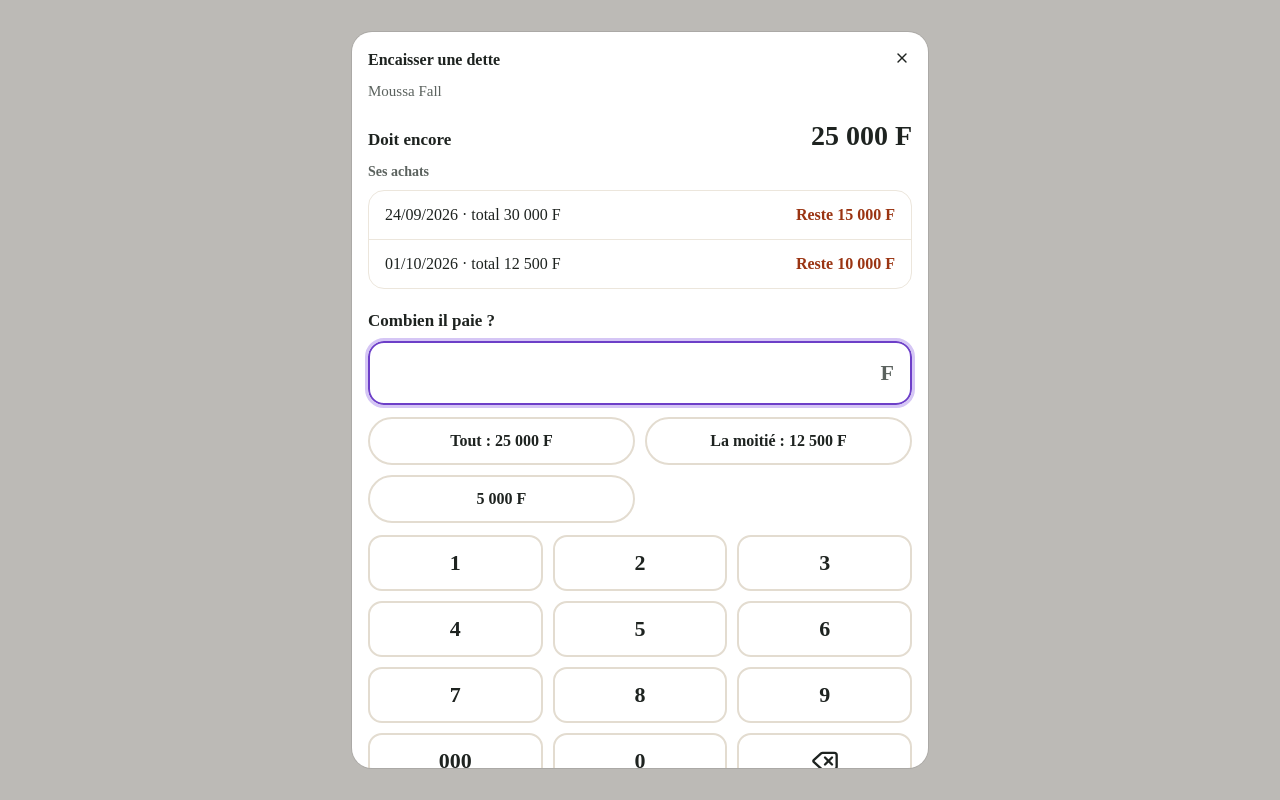
Encaisser une dette › propose « Tout » et « La moitié »
Expected: the text "25 000 F" is shown, [811,118,912,154]
What coordinates should you click on to do the following:
click the button "Tout : 25 000 F"
I would click on:
 (502, 441)
Its box is [368,417,635,465].
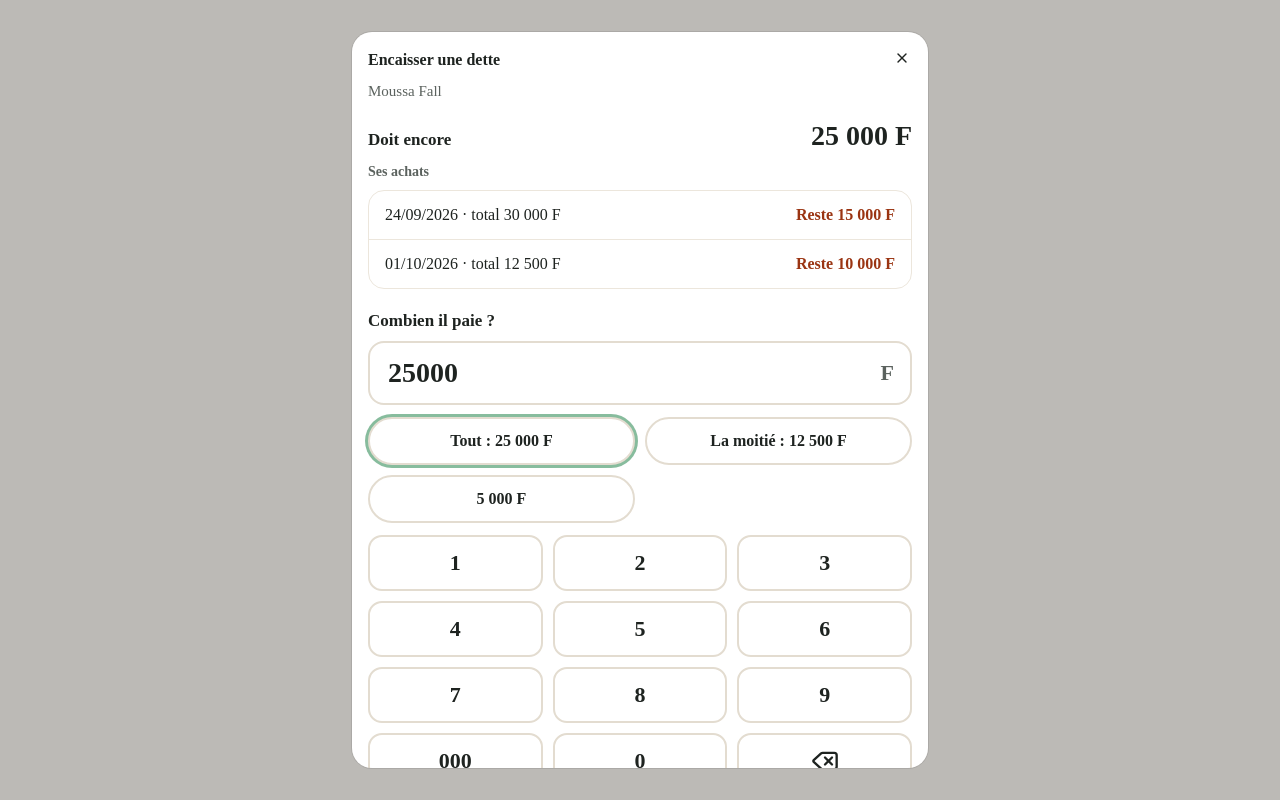
What coordinates should you click on to do the following:
click the button "La moitié : 12 500 F"
I would click on:
 (778, 441)
Its box is [645,417,912,465].
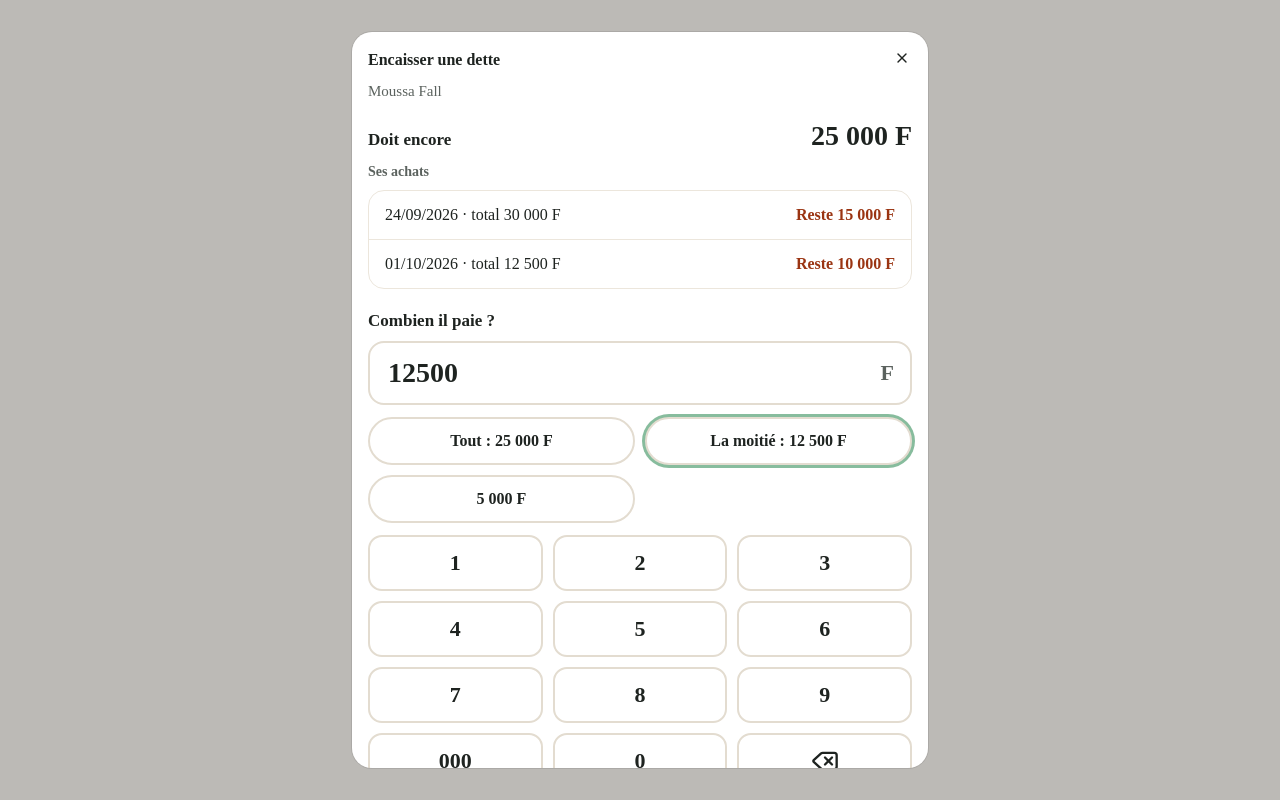
Result: the field labelled "Combien il paie ?" holds "12500" at [368,341,912,405]
